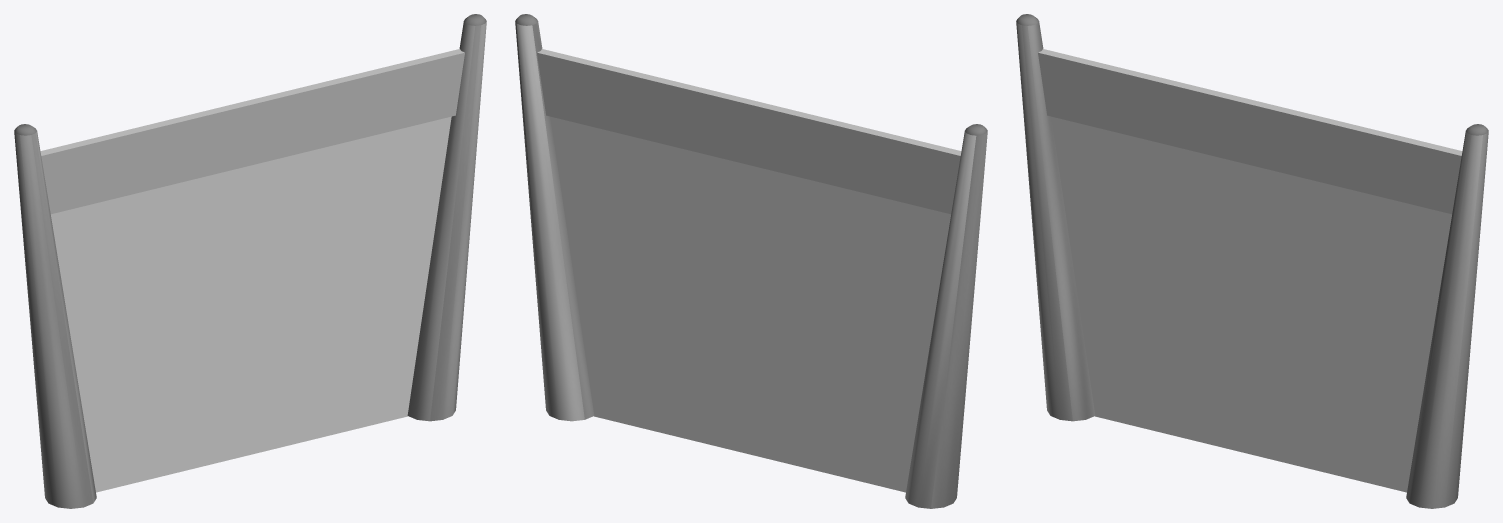
Rendered from Fbx_GoalGate.fbx.
3 views of the same model, side by side, from view 1: azimuth 30°, elevation 25°; view 2: azimuth 150°, elevation 25°; view 3: azimuth 330°, elevation 25° (orthographic).
Visible parts, largest first — view 1: Portal Plane, Goal Gate; view 2: Portal Plane, Goal Gate; view 3: Portal Plane, Goal Gate.
Boxes of the visible parts, bbox=[...] form: Portal Plane: bbox=[51, 116, 451, 492]; Goal Gate: bbox=[14, 14, 486, 508]; Portal Plane: bbox=[550, 116, 950, 492]; Goal Gate: bbox=[515, 14, 987, 508]; Portal Plane: bbox=[1051, 116, 1451, 492]; Goal Gate: bbox=[1016, 14, 1488, 508].
Size of the model in its own units: 5.23 by 4.08 by 0.5.
